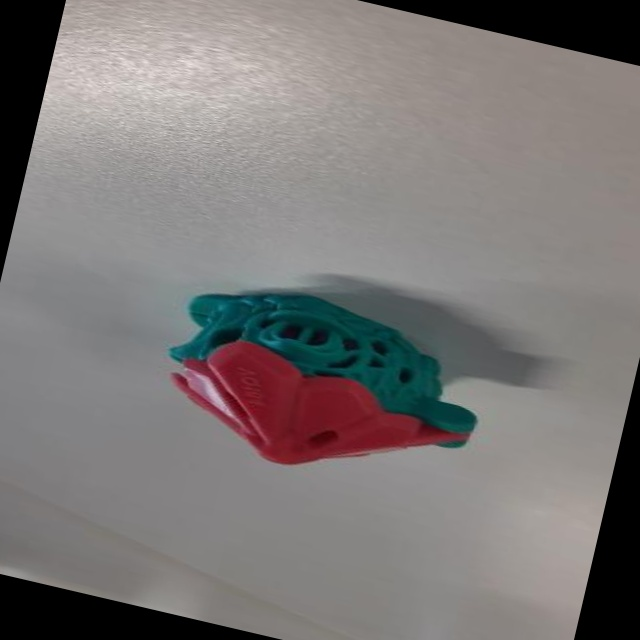House: (125, 252, 509, 518)
